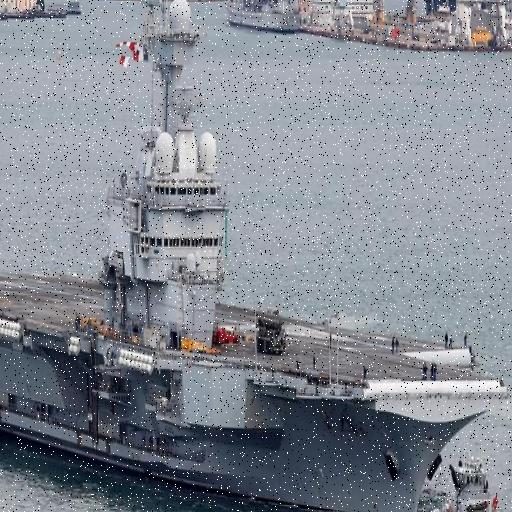Portanaves: (1, 1, 511, 512)
